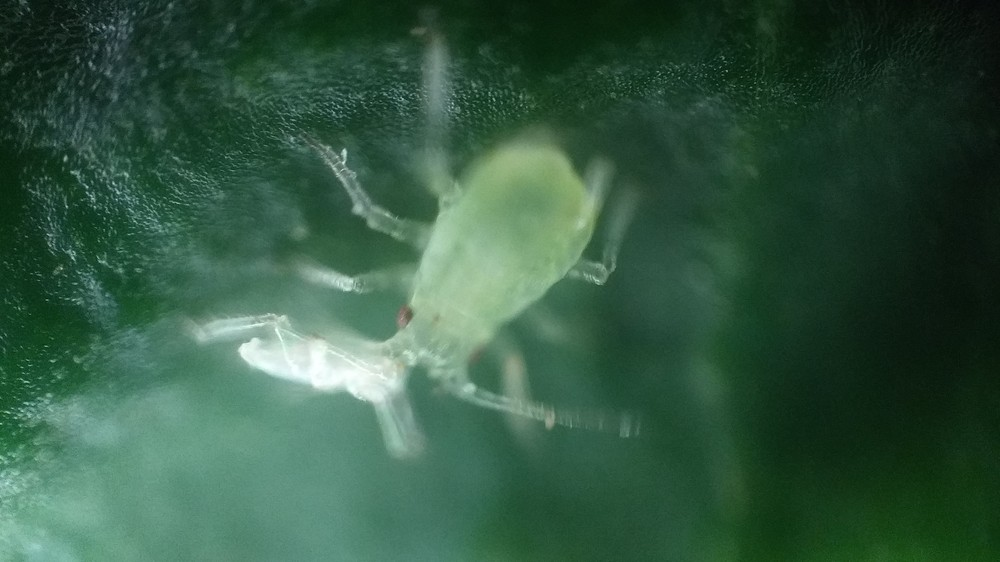Pulgon: (292, 86, 699, 482)
